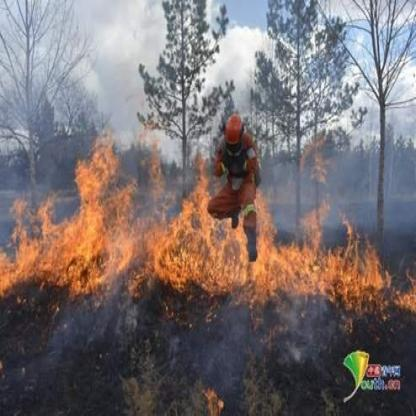fire: (6, 108, 410, 342)
